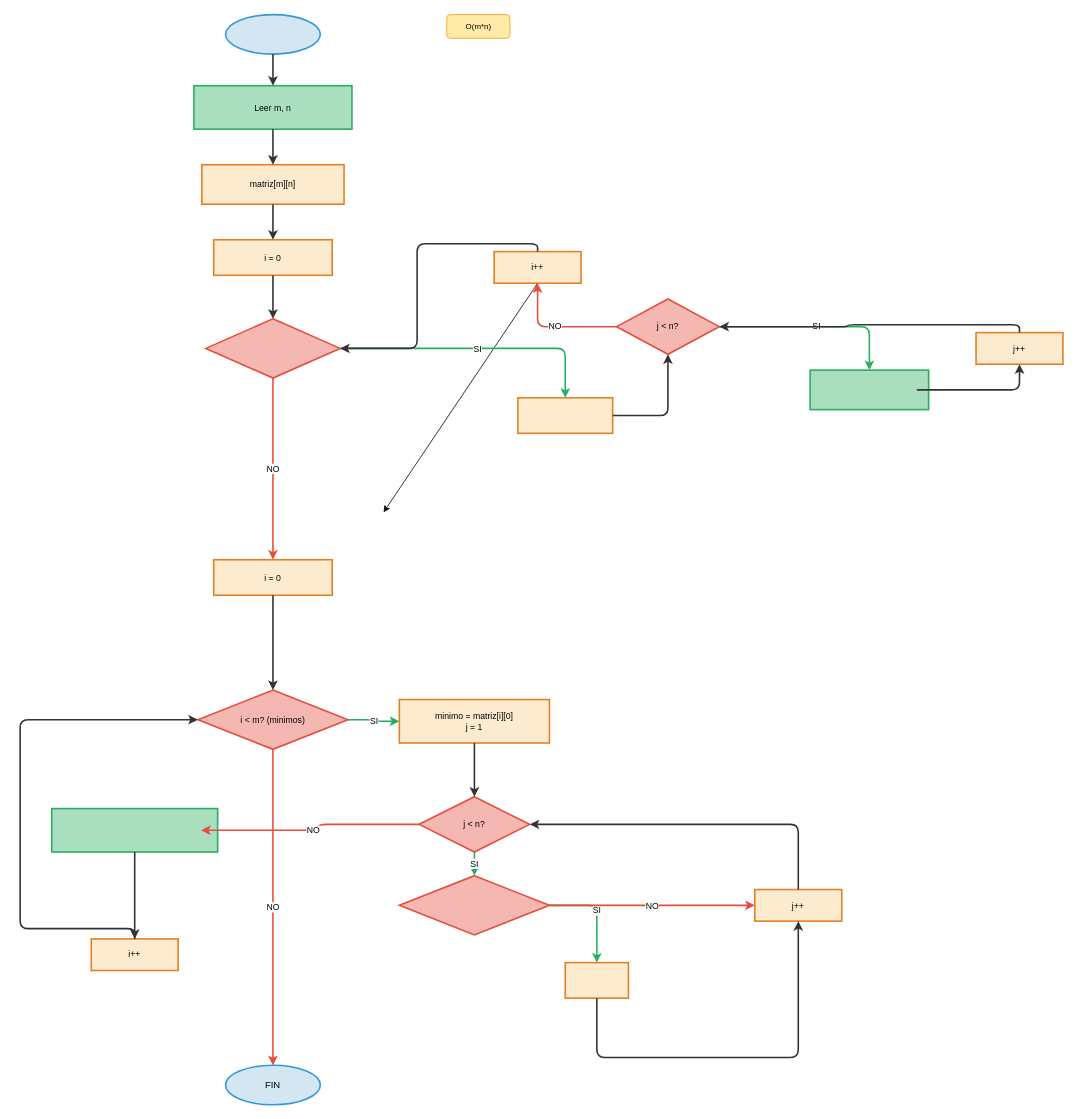
Some shapes in this 1077 by 1119 pixel diagram are drawn without their labels. Each missing label, with the box of its shape:
i < m? (leer): (205, 318, 340, 378)
Imprimir minimo (fila i): (51, 807, 218, 852)
INICIO: (224, 13, 321, 55)
j = 0: (517, 397, 613, 434)
Leer matriz[i][j]: (809, 369, 929, 410)
matriz[i][j] < minimo?: (398, 875, 550, 935)
minimo = matriz[i][j]: (564, 961, 629, 999)
